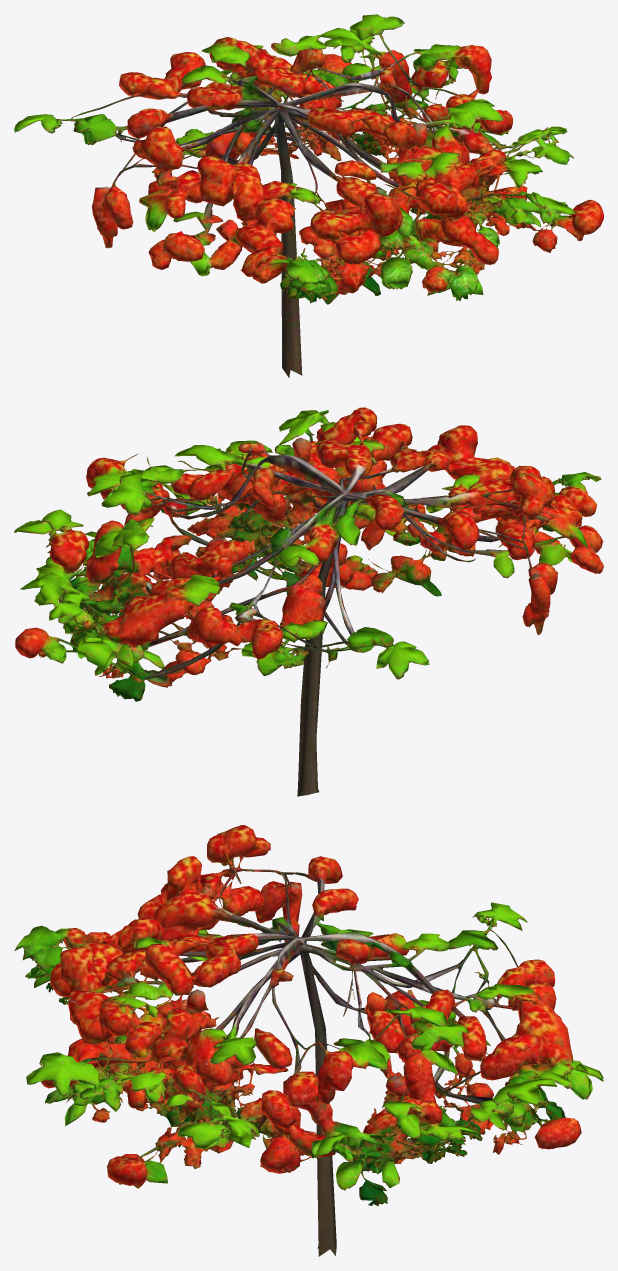
File: phuong_d.glb
3 renders of one model, top to bottom at view 1: azimuth 30°, elevation 25°; view 2: azimuth 150°, elevation 25°; view 3: azimuth 270°, elevation 25°, orthographic. The views are drawn at different scales.
Parts seen in each view (by area): view 1: Mesh_0; view 2: Mesh_0; view 3: Mesh_0.
Boxes of the visible parts, box(x1,y1,x2,y2) form: Mesh_0: box(14, 14, 603, 377); Mesh_0: box(14, 407, 603, 796); Mesh_0: box(14, 825, 603, 1256).
Size of the model in its own units: 1.79 by 1.2 by 1.9.
1 material, 1 textured.
